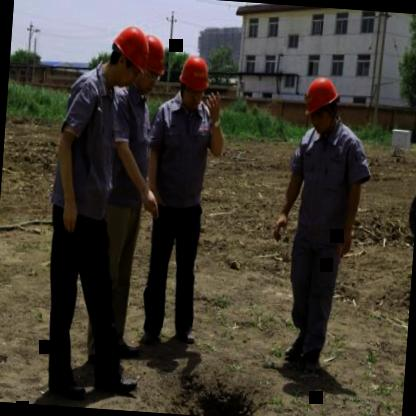helmet: (106, 22, 156, 92), (300, 74, 342, 136), (136, 30, 167, 94), (176, 52, 210, 109)
